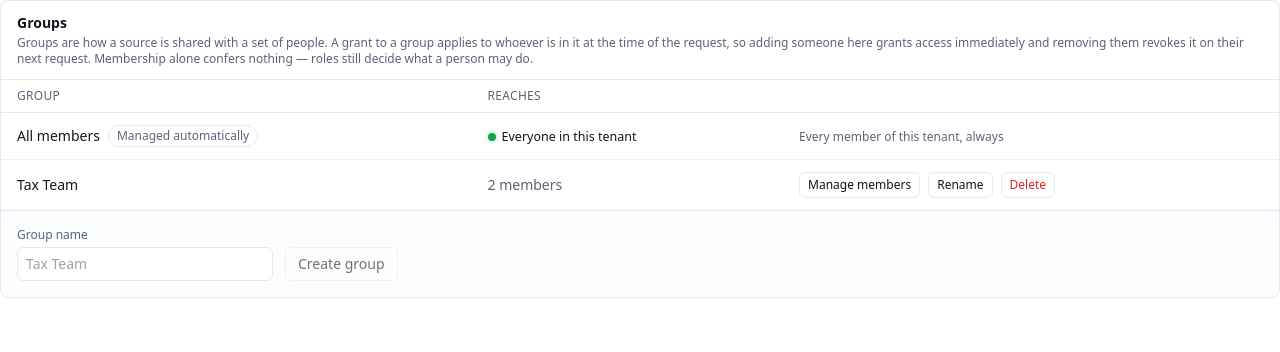
Test: GroupsPanel › renames a group inline
This screenshot has width=1280, height=352.
Expected: the text "Tax Team" is shown, [17, 175, 78, 195]
Click the button with aria-label "rename tax team".
click(960, 185)  # box [928, 172, 993, 198]
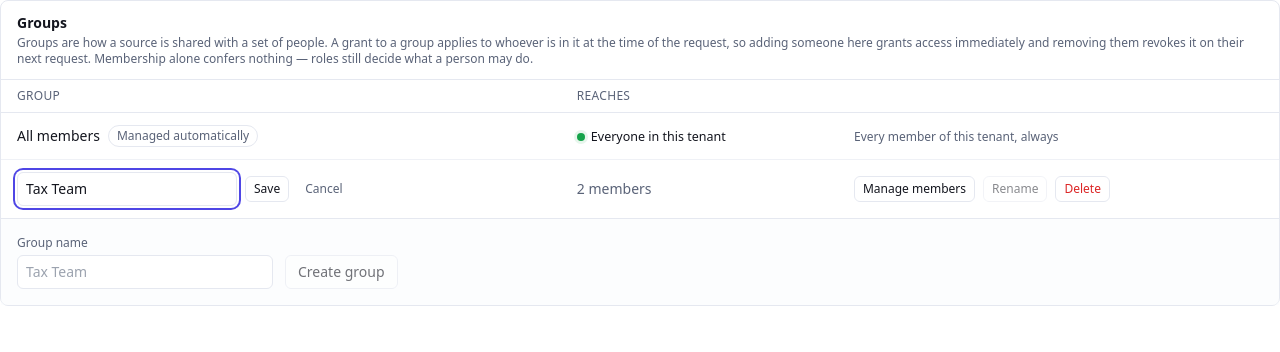
Replace the text in the field named "new name for tax team" with "Tax & Treasury" at (127, 189), box [17, 172, 237, 206]
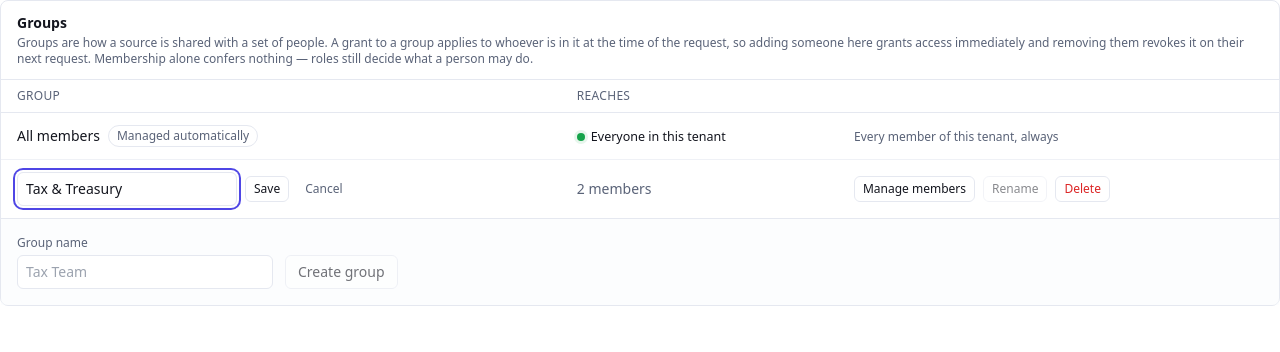
Click the button "Save".
click(267, 189)  # box [245, 176, 289, 202]
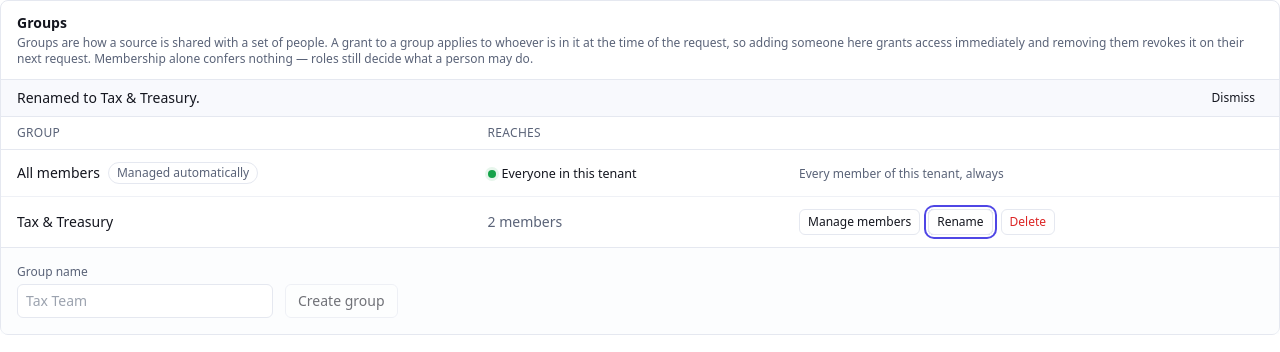
Expected: the text "Renamed to Tax & Treasury." is shown, [17, 88, 200, 108]
